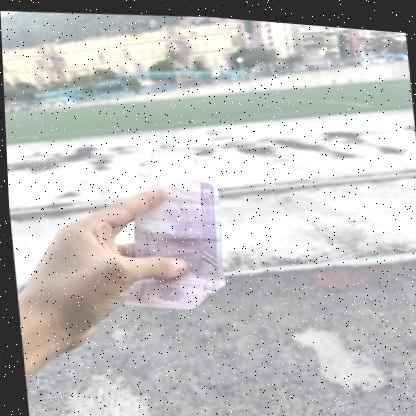one_hundred-back-vef: (109, 163, 228, 312)
